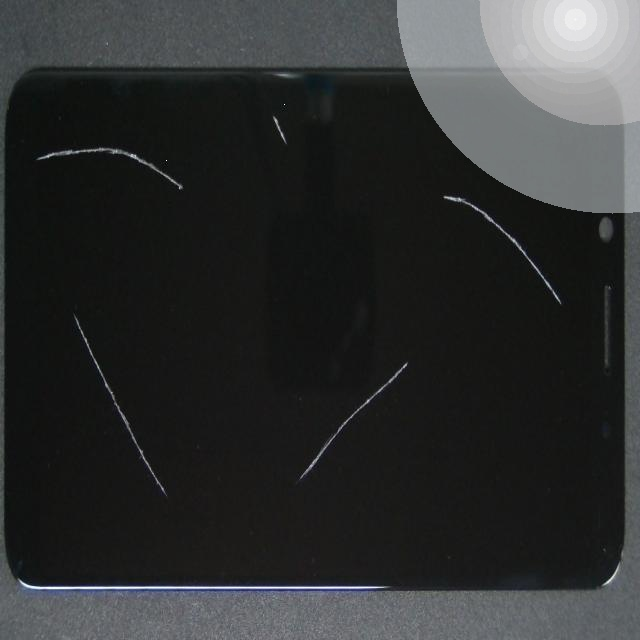scratch: (139, 213, 436, 640), (115, 48, 394, 209), (9, 60, 64, 237)
